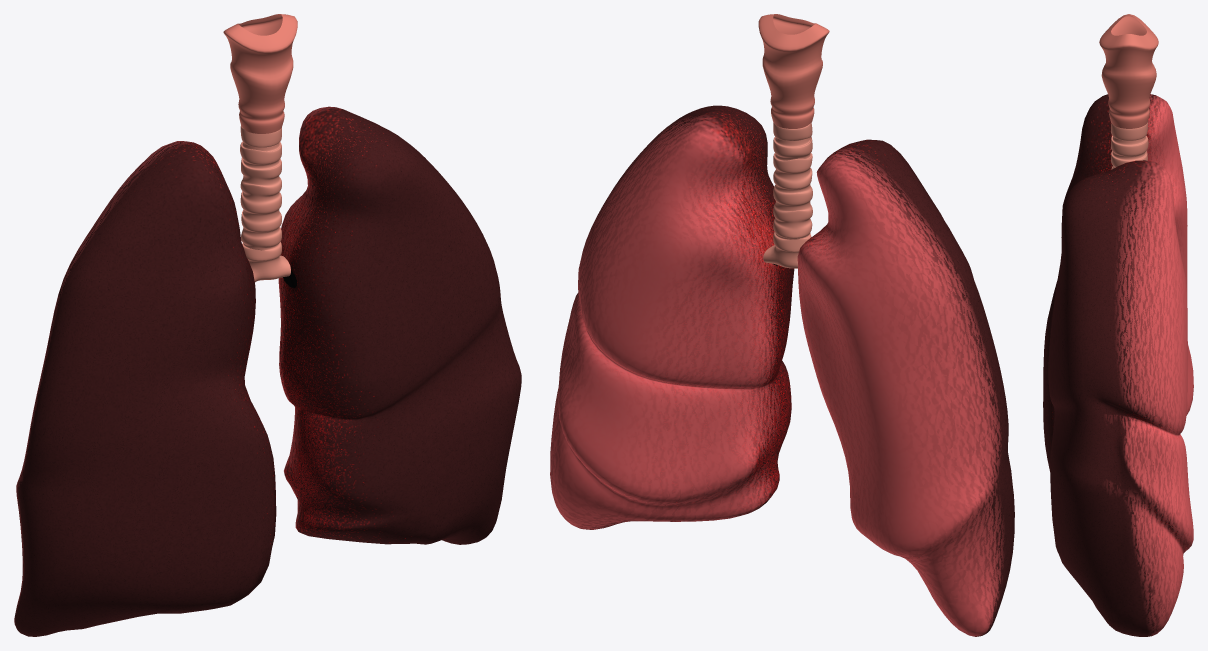
Rendered from centeredlungs.glb.
3 renders of one model, left to right at view 1: azimuth 30°, elevation 25°; view 2: azimuth 150°, elevation 25°; view 3: azimuth 270°, elevation 25°, orthographic. The views are drawn at different scales.
Visible parts, largest first — view 1: Circle, Circle.001; view 2: Circle, Circle.001; view 3: Circle, Circle.001.
Part boxes in pixels (box(x1,y1,x2,y2)): Circle: box(14, 106, 521, 636); Circle.001: box(223, 14, 297, 282); Circle: box(550, 105, 1014, 636); Circle.001: box(758, 14, 829, 268); Circle: box(1043, 94, 1193, 636); Circle.001: box(1099, 14, 1158, 169).
Size of the model in its own units: 3.67 by 4.29 by 1.12.
Materials: 4 (2 with a texture image).
